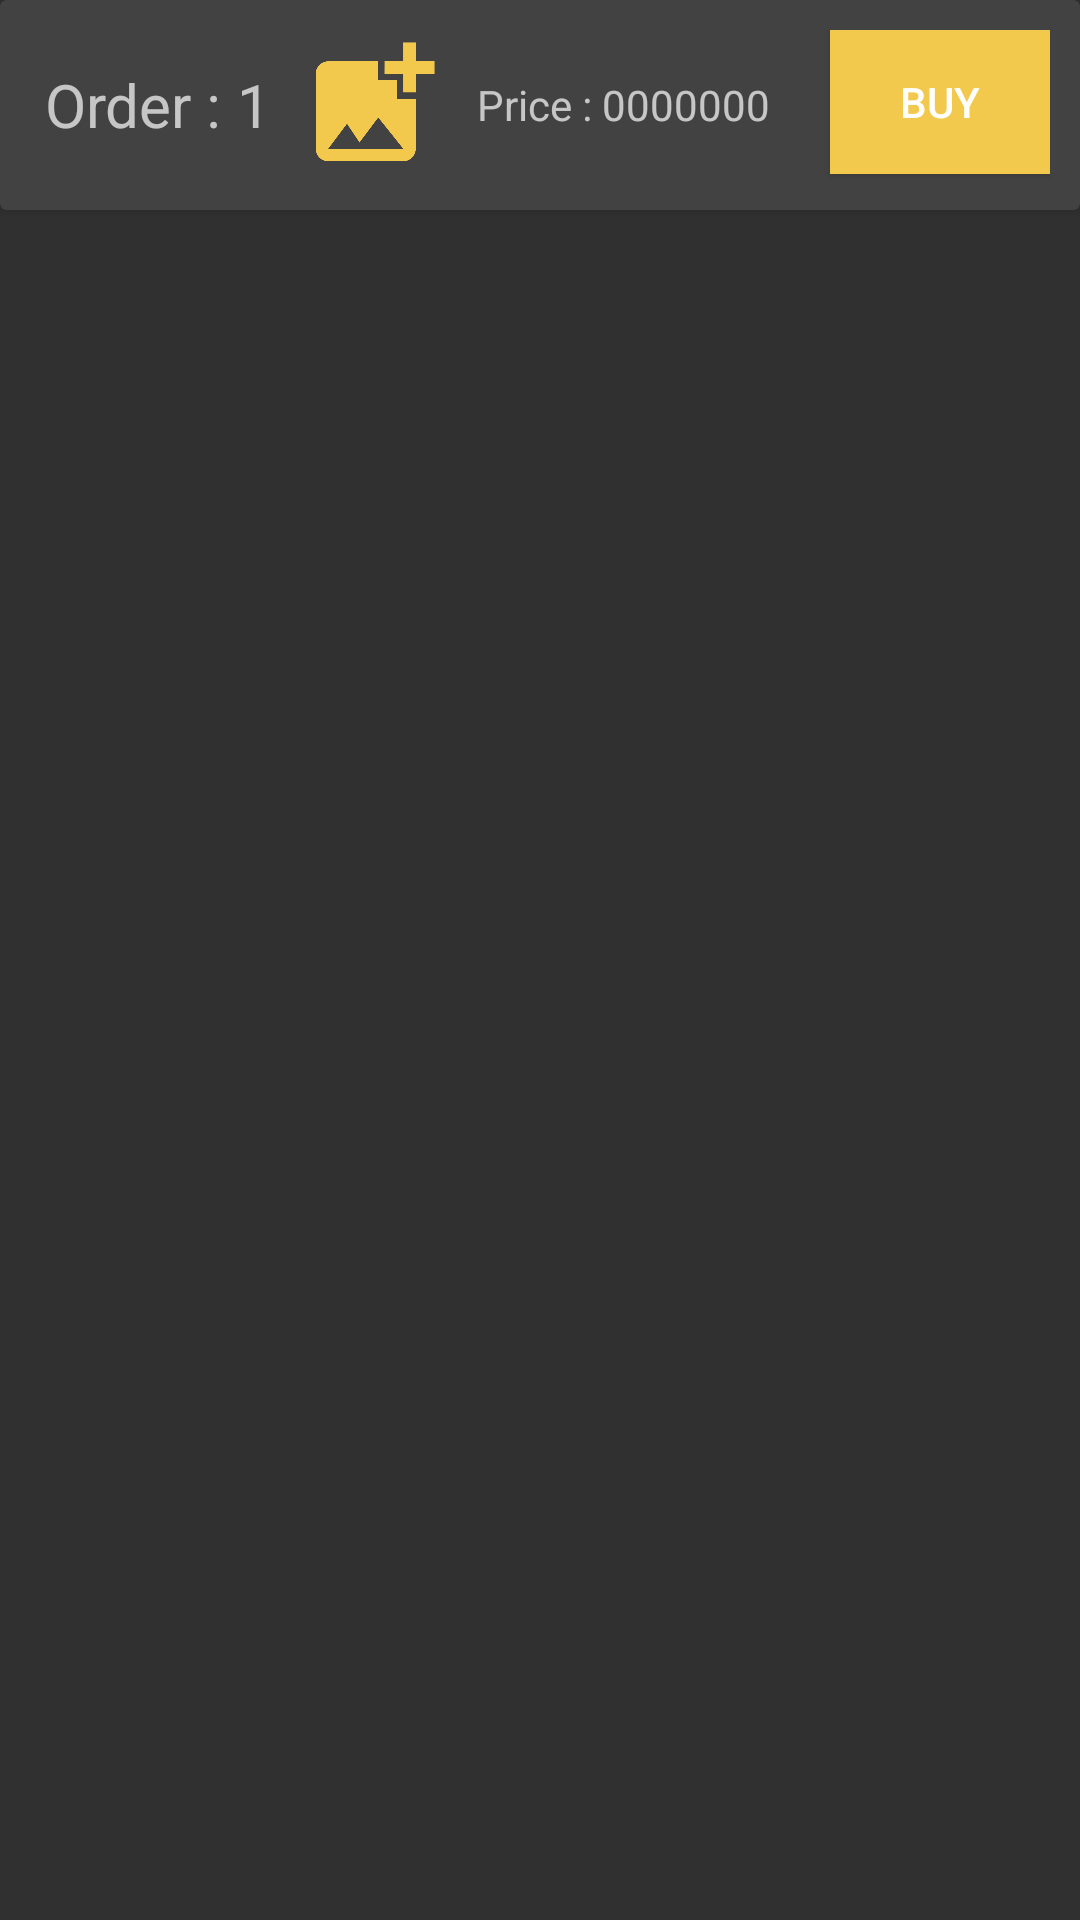

Icons on this 1080w x 1920h Android screen, each with its box as bbox(x1, y1, x2, y2):
add photo alternate: bbox(316, 42, 435, 161)
